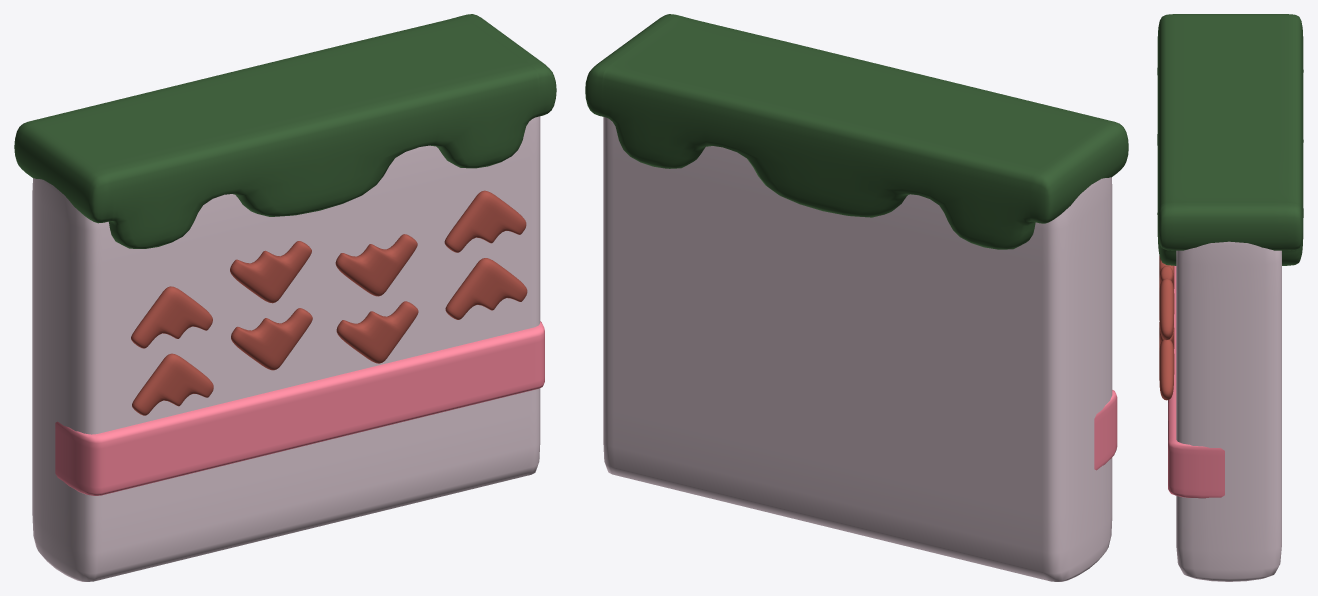
Rendered from Terrain4.fbx.
The picture shows the model from 3 angles, left to right: view 1: azimuth 30°, elevation 25°; view 2: azimuth 150°, elevation 25°; view 3: azimuth 270°, elevation 25°; orthographic projection. The views are drawn at different scales.
Visible parts, largest first — view 1: Terrain4_Middle, Terrain4_Top, Terrain4_Bottom, Terrain4_Middle_L, Terrain4, Terrain4_Top_L, Terrain4_Middle_R, Terrain4_Bottom_L, Terrain4_Top_R, Terrain4_Bottom_R; view 2: Terrain4_Middle, Terrain4_Top, Terrain4_Middle_L, Terrain4_Top_L, Terrain4_Middle_R, Terrain4_Top_R, Terrain4_Bottom_L; view 3: Terrain4_Middle_R, Terrain4_Top, Terrain4_Top_R, Terrain4_Bottom_R, Terrain4, Terrain4_Bottom, Terrain4_Top_L.
Part boxes in pixels (bbox=[...]): Terrain4_Middle: bbox=[99, 121, 529, 580]; Terrain4_Top: bbox=[36, 15, 540, 248]; Terrain4_Bottom: bbox=[103, 328, 534, 494]; Terrain4_Middle_L: bbox=[32, 178, 102, 581]; Terrain4: bbox=[131, 190, 527, 415]; Terrain4_Top_L: bbox=[14, 120, 112, 223]; Terrain4_Middle_R: bbox=[526, 116, 540, 475]; Terrain4_Bottom_L: bbox=[55, 421, 107, 495]; Terrain4_Top_R: bbox=[463, 14, 556, 116]; Terrain4_Bottom_R: bbox=[530, 321, 544, 389]; Terrain4_Middle: bbox=[613, 124, 1045, 580]; Terrain4_Top: bbox=[601, 15, 1107, 249]; Terrain4_Middle_L: bbox=[1042, 177, 1112, 581]; Terrain4_Top_L: bbox=[1030, 120, 1128, 223]; Terrain4_Middle_R: bbox=[603, 117, 617, 475]; Terrain4_Top_R: bbox=[585, 14, 678, 116]; Terrain4_Bottom_L: bbox=[1094, 390, 1117, 470]; Terrain4_Middle_R: bbox=[1176, 241, 1281, 581]; Terrain4_Top: bbox=[1157, 17, 1303, 265]; Terrain4_Top_R: bbox=[1157, 202, 1303, 250]; Terrain4_Bottom_R: bbox=[1168, 437, 1224, 498]; Terrain4: bbox=[1159, 255, 1174, 400]; Terrain4_Bottom: bbox=[1168, 266, 1176, 441]; Terrain4_Top_L: bbox=[1157, 14, 1303, 38].
Bounding box in the file's own units: 45.27 × 39.08 × 13.81.
